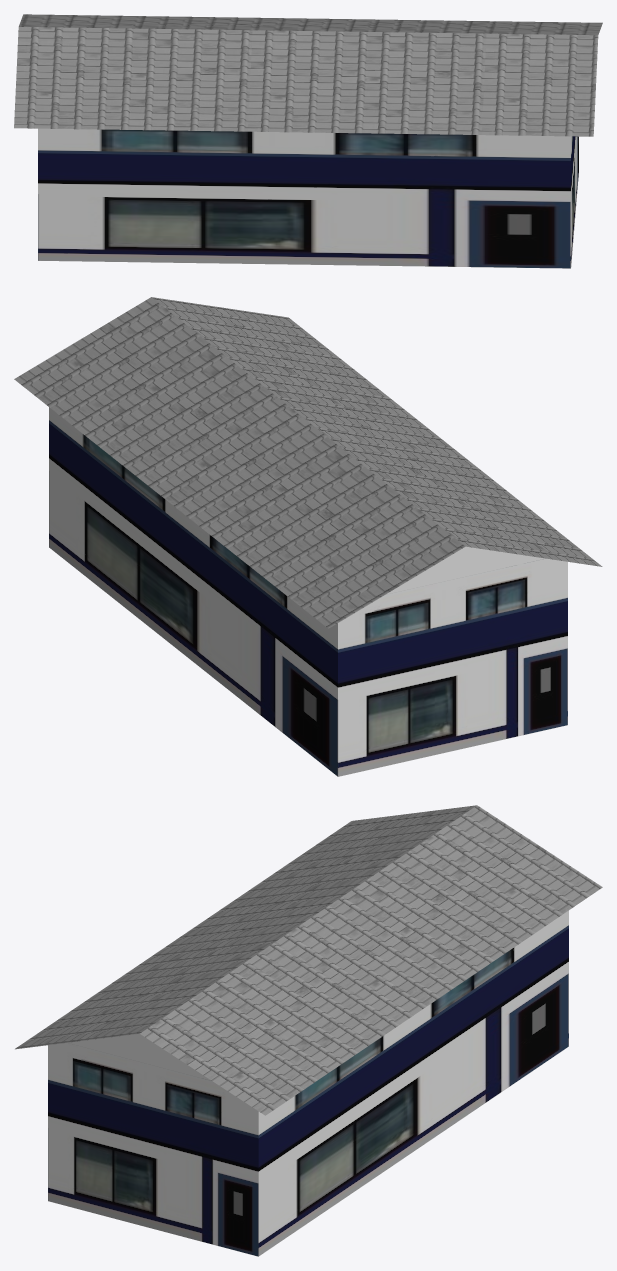
3 views of the same model, one above another, from view 1: azimuth 30°, elevation 25°; view 2: azimuth 150°, elevation 25°; view 3: azimuth 270°, elevation 25° (orthographic). The views are drawn at different scales.
Parts seen in each view (by area): view 1: CityEngineMaterial_2_m, CityEngineMaterial_4_m; view 2: CityEngineMaterial_4_m, CityEngineMaterial_2_m, CityEngineMaterial_3_m; view 3: CityEngineMaterial_4_m, CityEngineMaterial_2_m, CityEngineMaterial_3_m.
Boxes of the visible parts, x1=… form: CityEngineMaterial_2_m: x1=38, y1=128, x2=578, y2=268; CityEngineMaterial_4_m: x1=14, y1=14, x2=602, y2=136; CityEngineMaterial_4_m: x1=14, y1=297, x2=602, y2=628; CityEngineMaterial_2_m: x1=49, y1=407, x2=567, y2=776; CityEngineMaterial_3_m: x1=386, y1=546, x2=544, y2=594; CityEngineMaterial_4_m: x1=15, y1=805, x2=602, y2=1115; CityEngineMaterial_2_m: x1=48, y1=910, x2=568, y2=1256; CityEngineMaterial_3_m: x1=67, y1=1034, x2=210, y2=1080.
Size of the model in its own units: 27.12 by 8.77 by 22.9.
